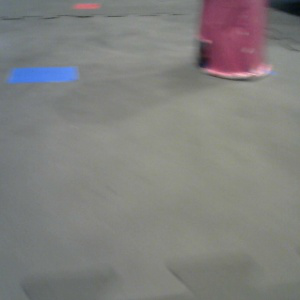Right: (194, 1, 274, 80)
